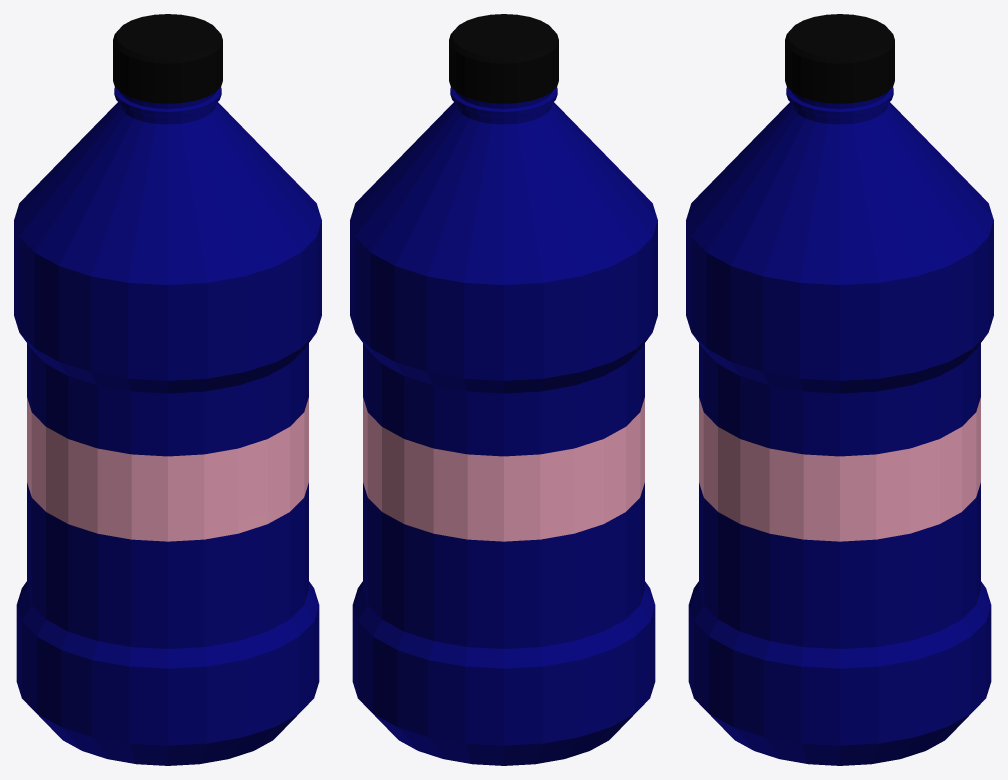
File: jamupullo1.fbx
3 views of the same model, side by side, from view 1: azimuth 30°, elevation 25°; view 2: azimuth 150°, elevation 25°; view 3: azimuth 270°, elevation 25° (orthographic).
Visible parts, largest first — view 1: Cylinder; view 2: Cylinder; view 3: Cylinder.
Boxes of the visible parts, x1,y1,x2,y2 form: Cylinder: (14, 14, 321, 765); Cylinder: (350, 14, 657, 765); Cylinder: (686, 14, 993, 765).
Bounding box in the file's own units: 2.18 × 2.18 × 5.31.
